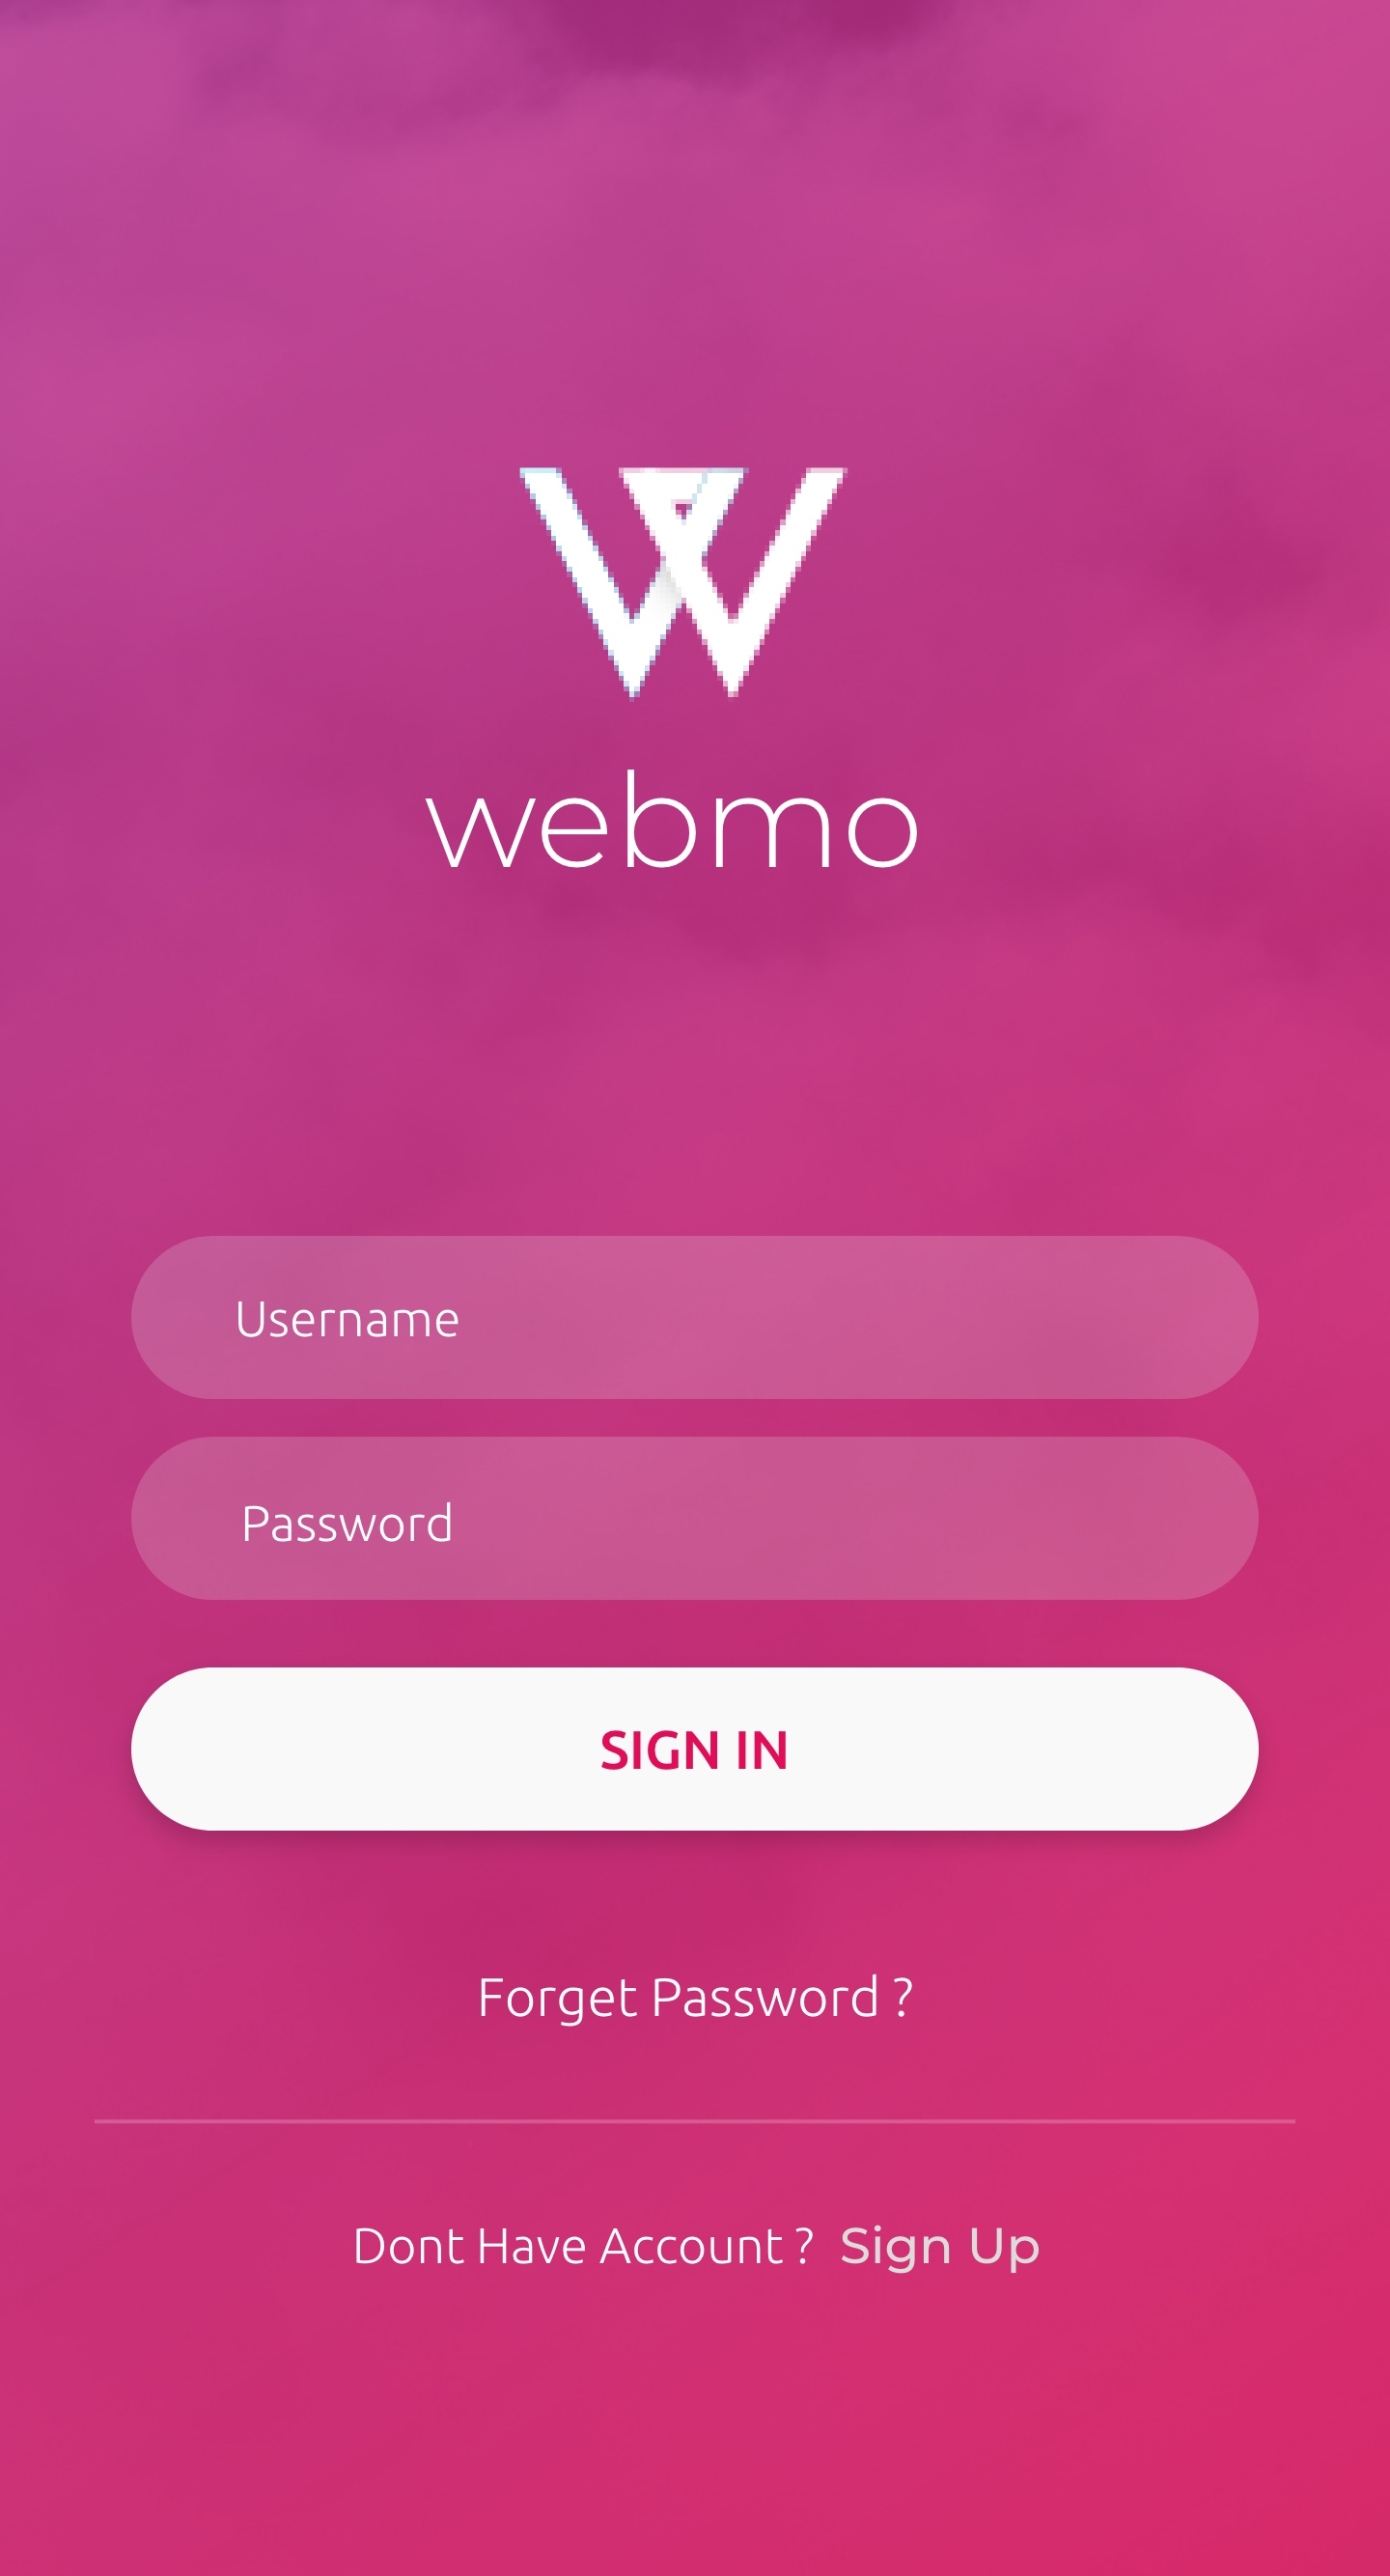EditText: (132, 1236, 1260, 1400), (132, 1436, 1260, 1600)
Image: (519, 466, 849, 703)
Text: (425, 769, 919, 870), (356, 2223, 1041, 2275), (481, 1972, 914, 2028), (245, 1501, 452, 1542), (238, 1301, 462, 1338)
TextButton: (132, 1667, 1260, 1831)
